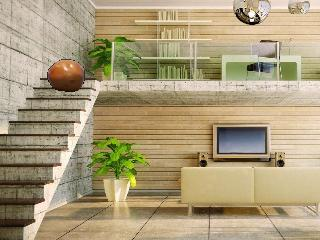potato: (46, 57, 86, 92)
